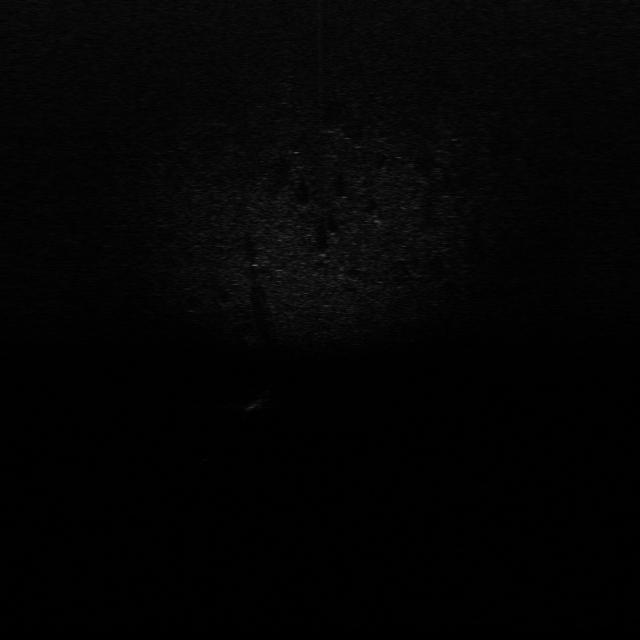human body: (240, 385, 280, 418)
